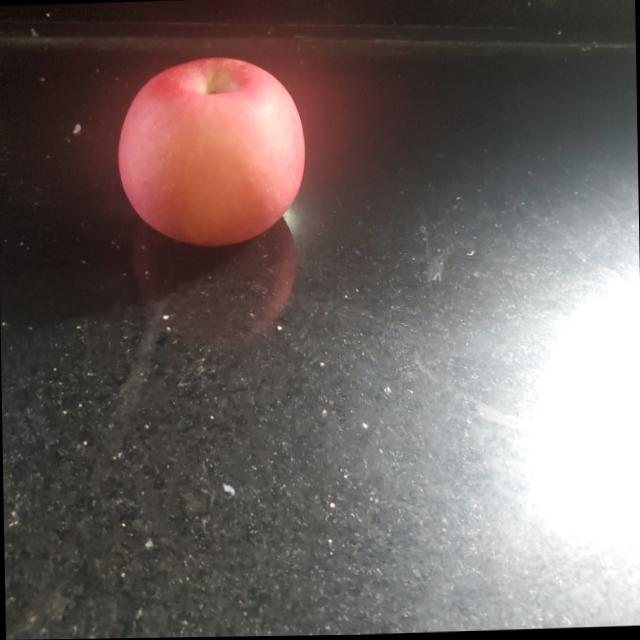apple: (120, 57, 308, 250)
